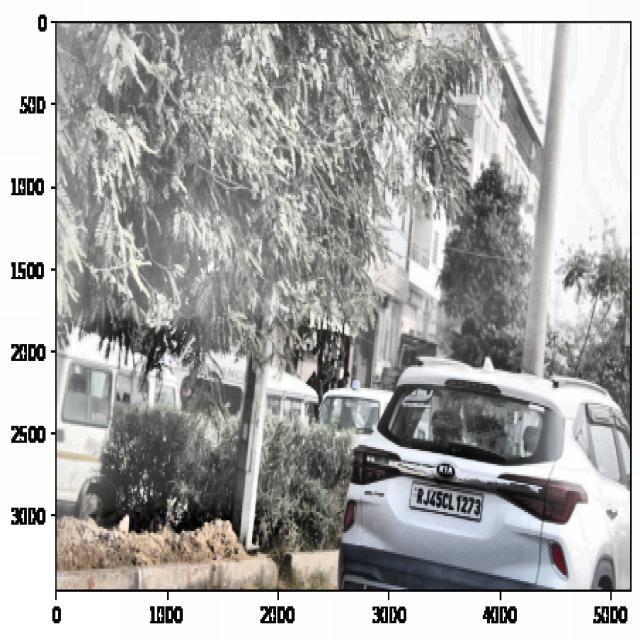license_plate: (414, 482, 484, 524)
